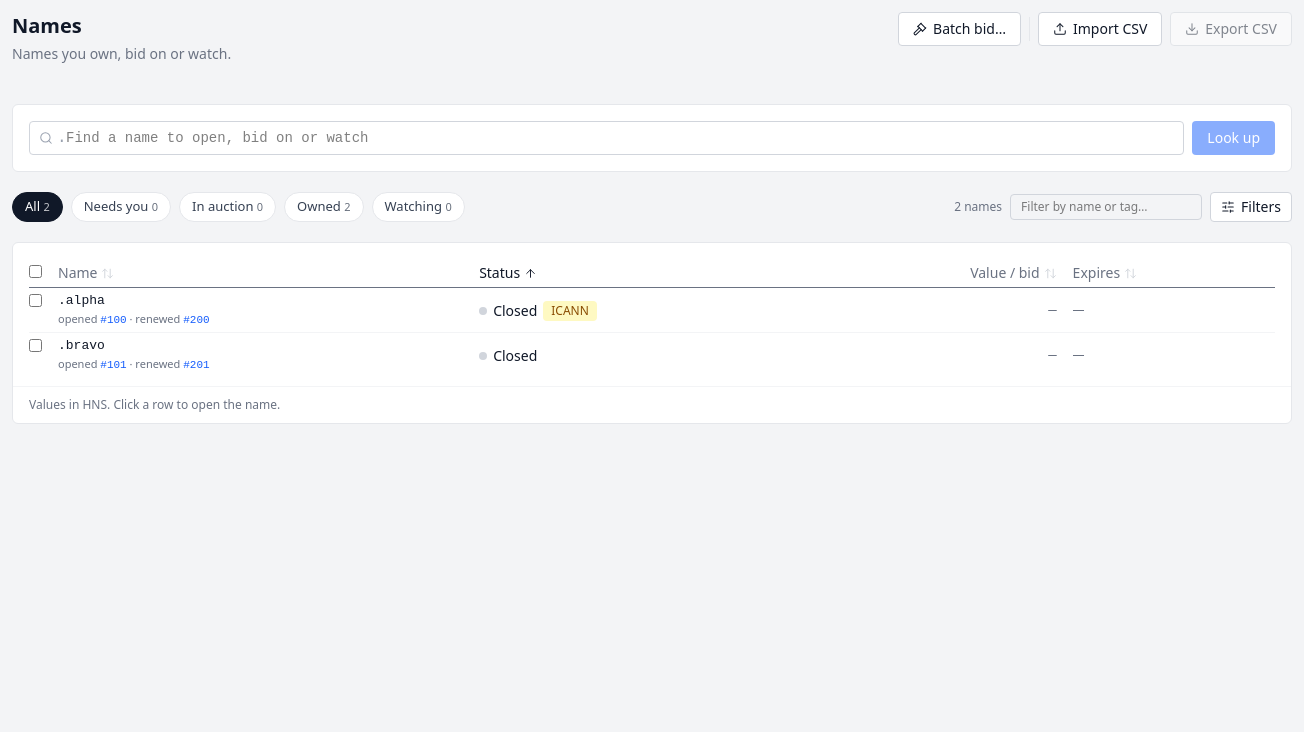
Test case: NamesView — batch reveal/redeem/finalize › redeem button is disabled when any selected name isn't eligible
Expected: the text ".alpha" is shown, [58,292,105,311]
Expected: the text ".bravo" is shown, [58,337,105,356]
Click the checkbox named "Select alpha" at (36, 300), box [29,294,42,307]
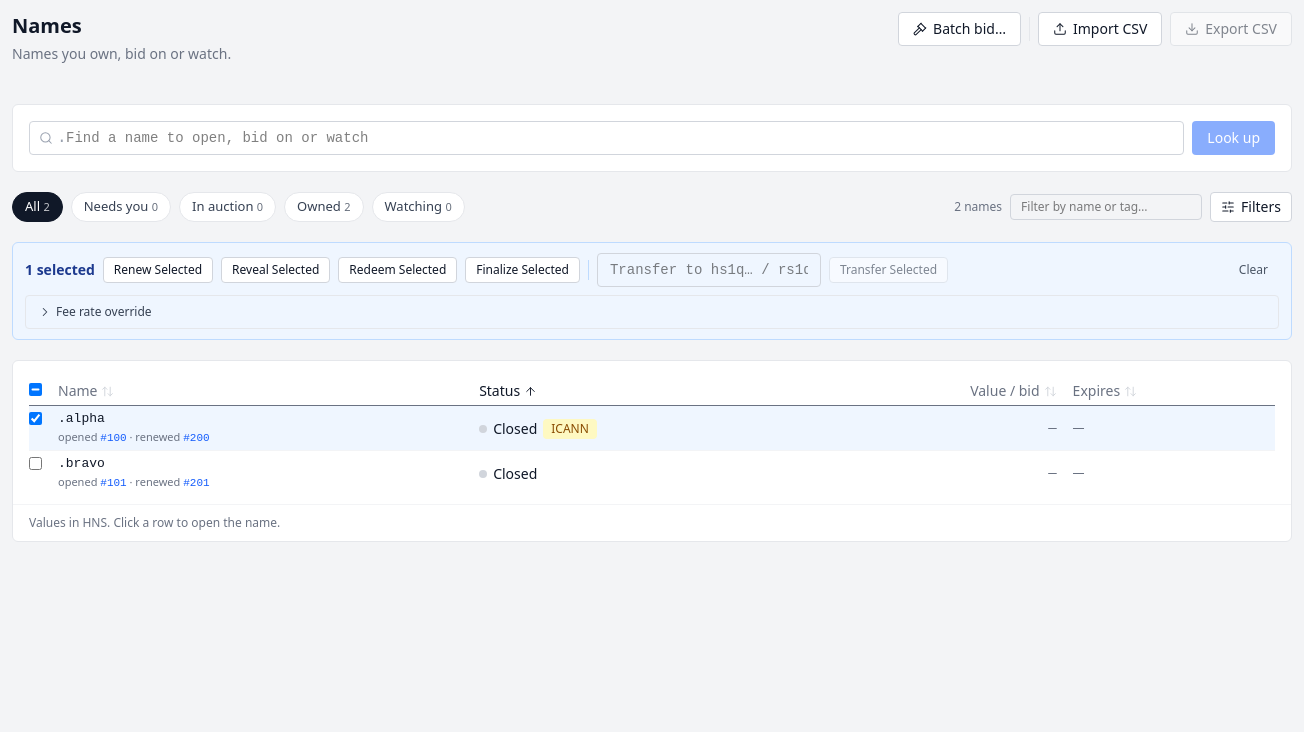
Click the checkbox named "Select bravo" at (36, 464), box [29,457,42,470]
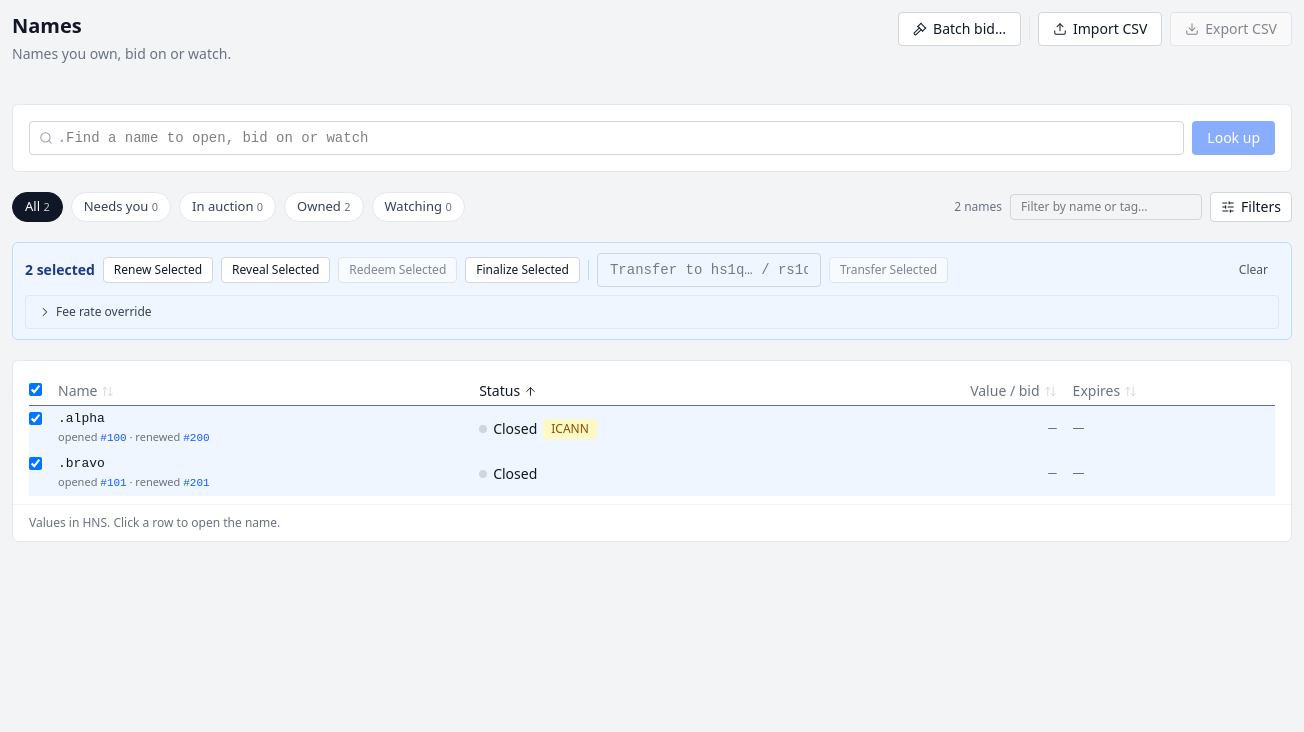
Expected: the button with test id "batch-reveal-btn" is shown, [221,257,330,283]
Expected: the button with test id "batch-redeem-btn" is disabled, [338,257,457,283]
